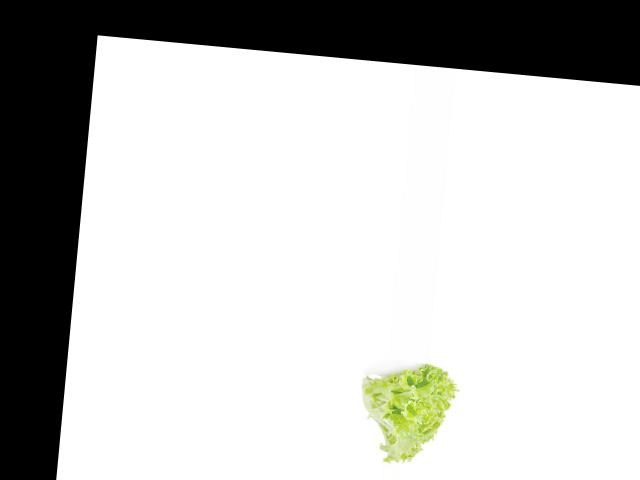lettuce: (348, 357, 466, 472)
